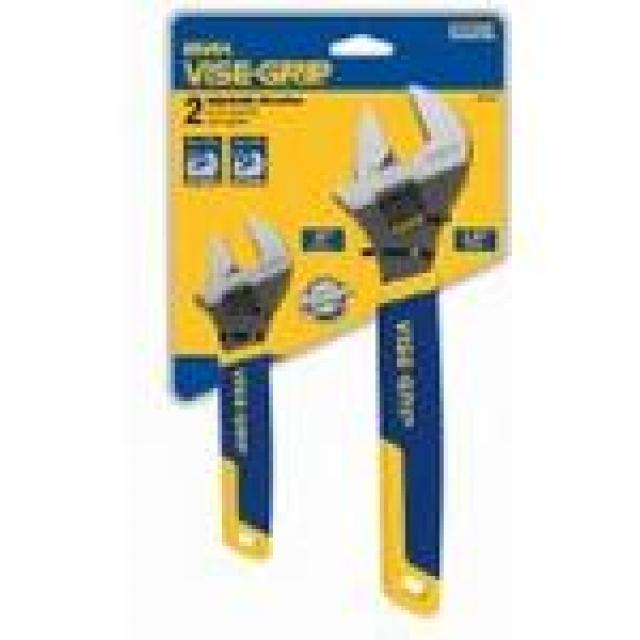wrench: (335, 70, 480, 627), (178, 201, 294, 572)
